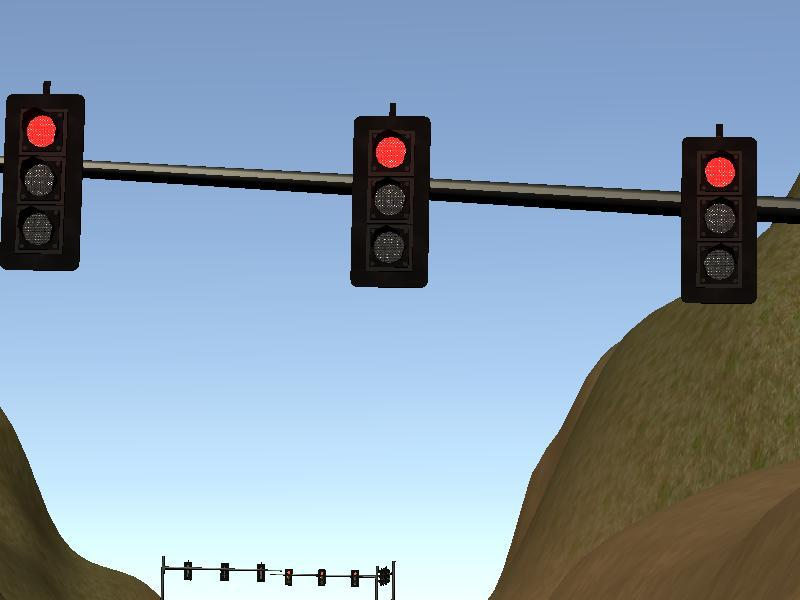Red: (4, 94, 81, 272), (352, 115, 430, 287), (681, 136, 758, 304), (350, 568, 359, 589), (317, 567, 325, 586), (285, 567, 292, 587)
